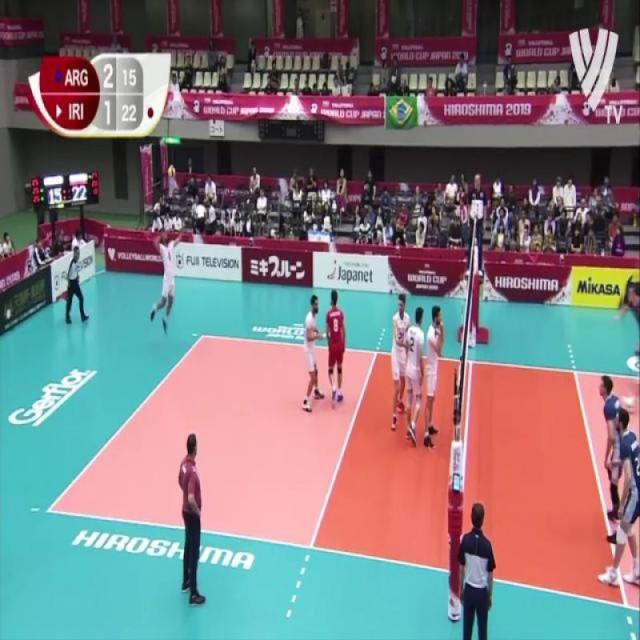volleyball: (621, 272, 640, 306), (166, 164, 177, 180)
